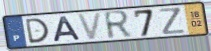7: (133, 8, 155, 38)
A: (51, 15, 83, 43)
D: (24, 17, 51, 45)
R: (102, 9, 134, 41)
V: (75, 11, 104, 41)
Z: (158, 6, 188, 36)
